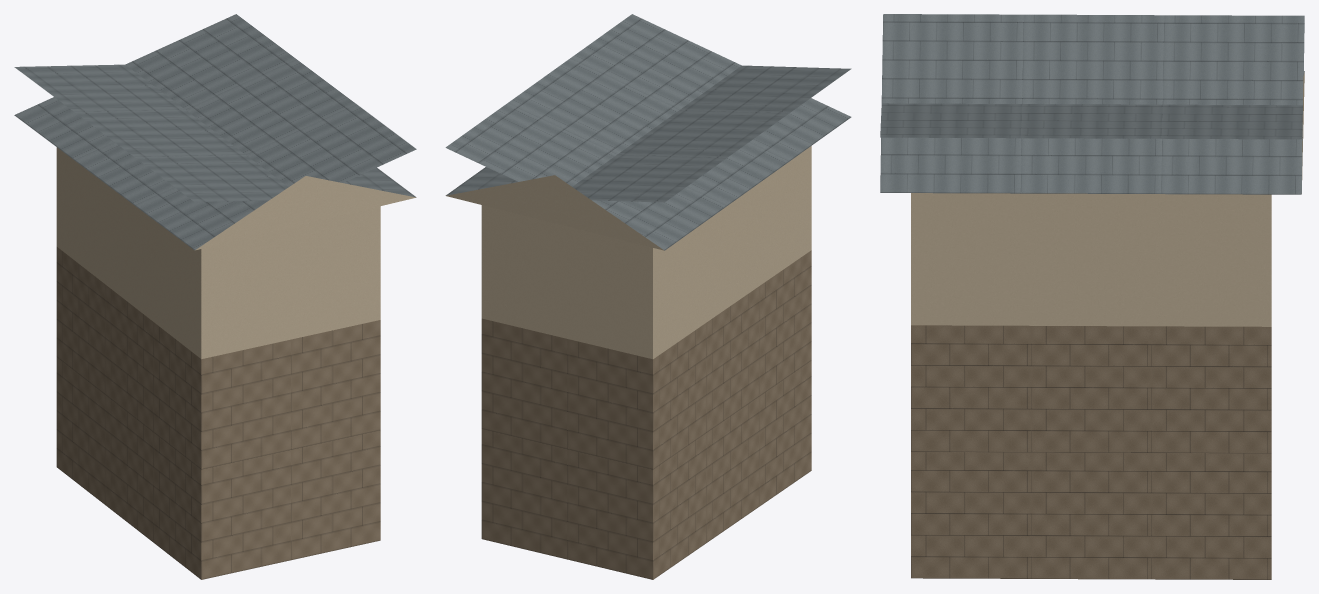
File: bld_c35_-29_444.gltf
3 renders of one model, left to right at view 1: azimuth 30°, elevation 25°; view 2: azimuth 150°, elevation 25°; view 3: azimuth 270°, elevation 25°, orthographic. The views are drawn at different scales.
Visible parts, largest first — view 1: bld_c35_-29_444; view 2: bld_c35_-29_444; view 3: bld_c35_-29_444.
Part boxes in pixels (x1,y1,x2,y2): bld_c35_-29_444: [14, 14, 416, 579]; bld_c35_-29_444: [445, 14, 851, 579]; bld_c35_-29_444: [880, 14, 1304, 579].
Bounding box in the file's own units: 4.86 × 8.2 × 6.96.
4 materials, 4 textured.
